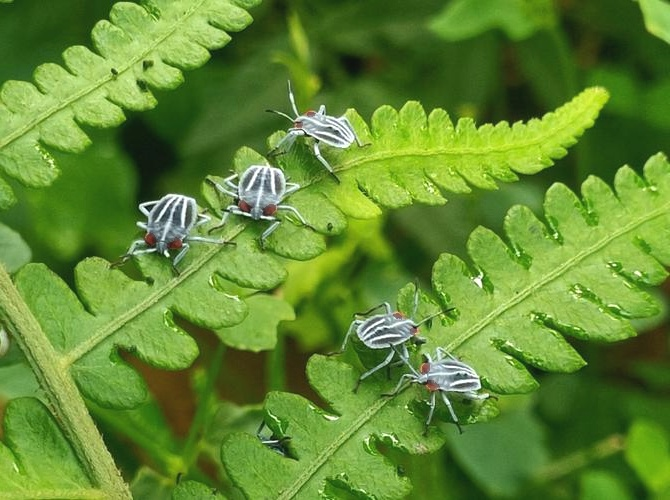Stink_Bug: (333, 282, 425, 354), (279, 89, 364, 147), (416, 349, 494, 410), (137, 195, 201, 259), (229, 163, 287, 216)
